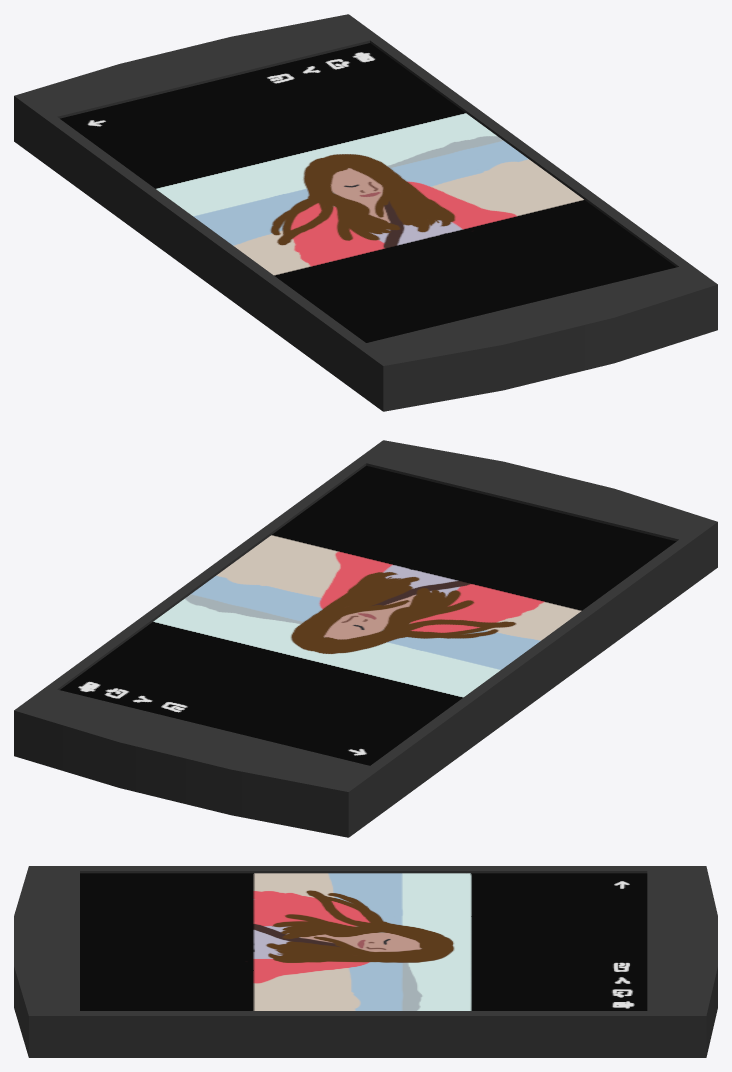
File: Phone_Texture.FBX
3 views of the same model, one above another, from view 1: azimuth 30°, elevation 25°; view 2: azimuth 150°, elevation 25°; view 3: azimuth 270°, elevation 25° (orthographic). The views are drawn at different scales.
Visible parts, largest first — view 1: Phone; view 2: Phone; view 3: Phone.
Part boxes in pixels (x1=…): Phone: x1=14, y1=14, x2=717, y2=411; Phone: x1=14, y1=440, x2=717, y2=837; Phone: x1=14, y1=866, x2=717, y2=1057.
Bounding box in the file's own units: 2.72 × 0.3543 × 5.39.
1 material, 1 textured.
